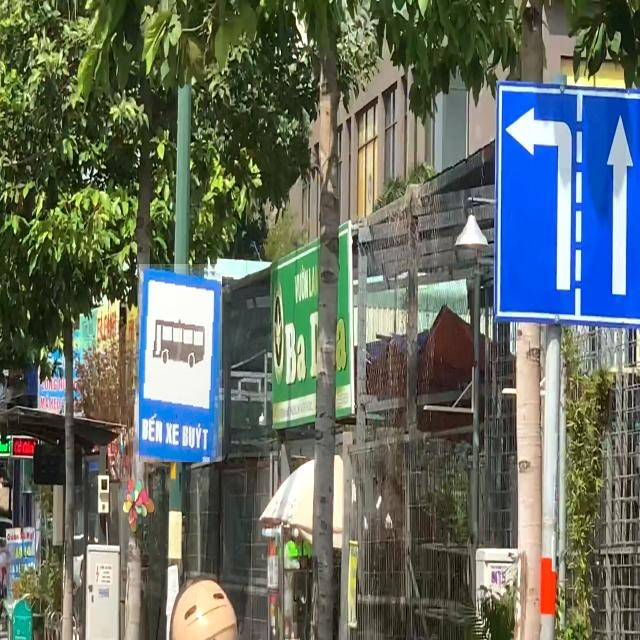bien_chi_dan: (139, 264, 222, 462)
